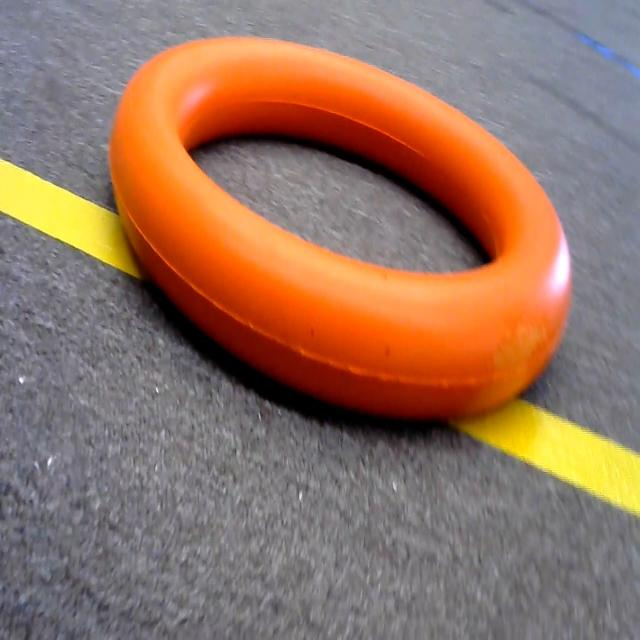note: (109, 24, 573, 430)
